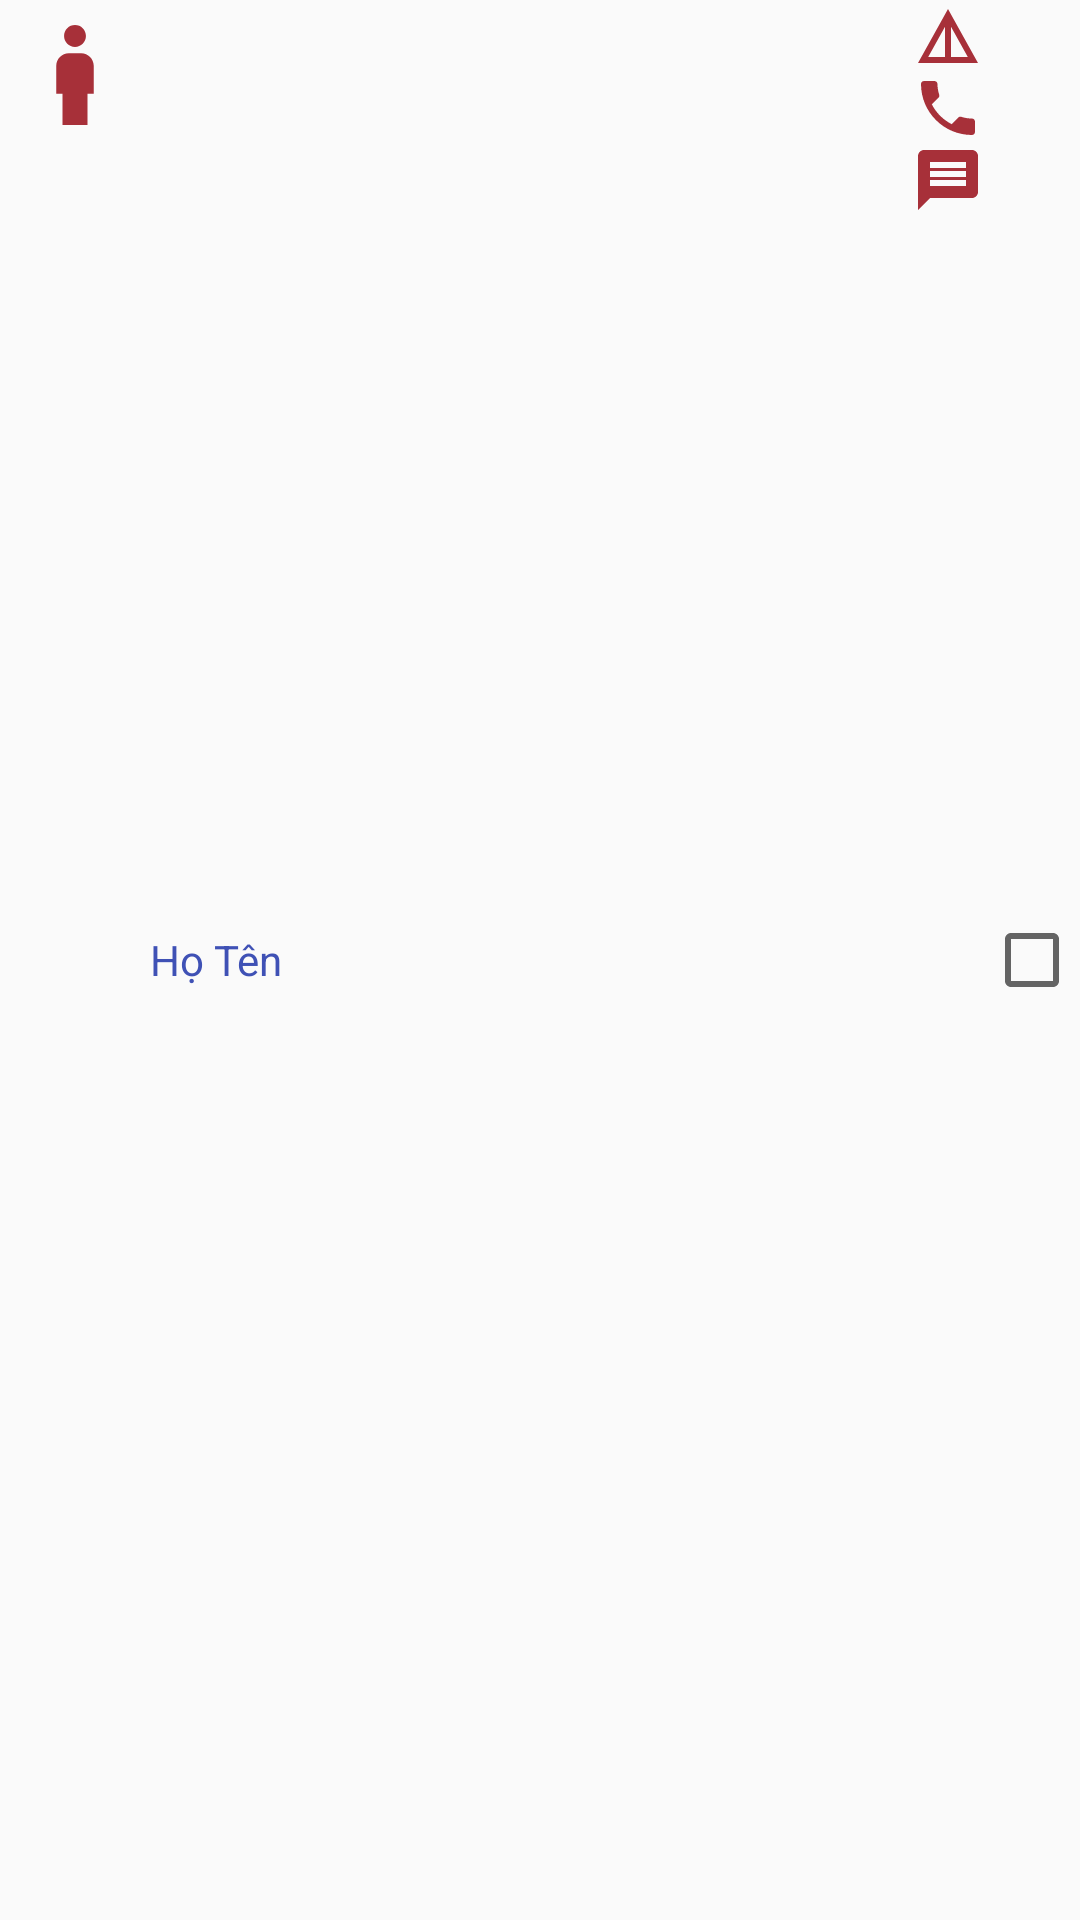

Where icons sit on this 1080w x 1920h app screen, as (x1, y1, x2, y2):
boy: (56, 25, 94, 125)
local phone: (921, 81, 975, 135)
message: (918, 150, 978, 210)
